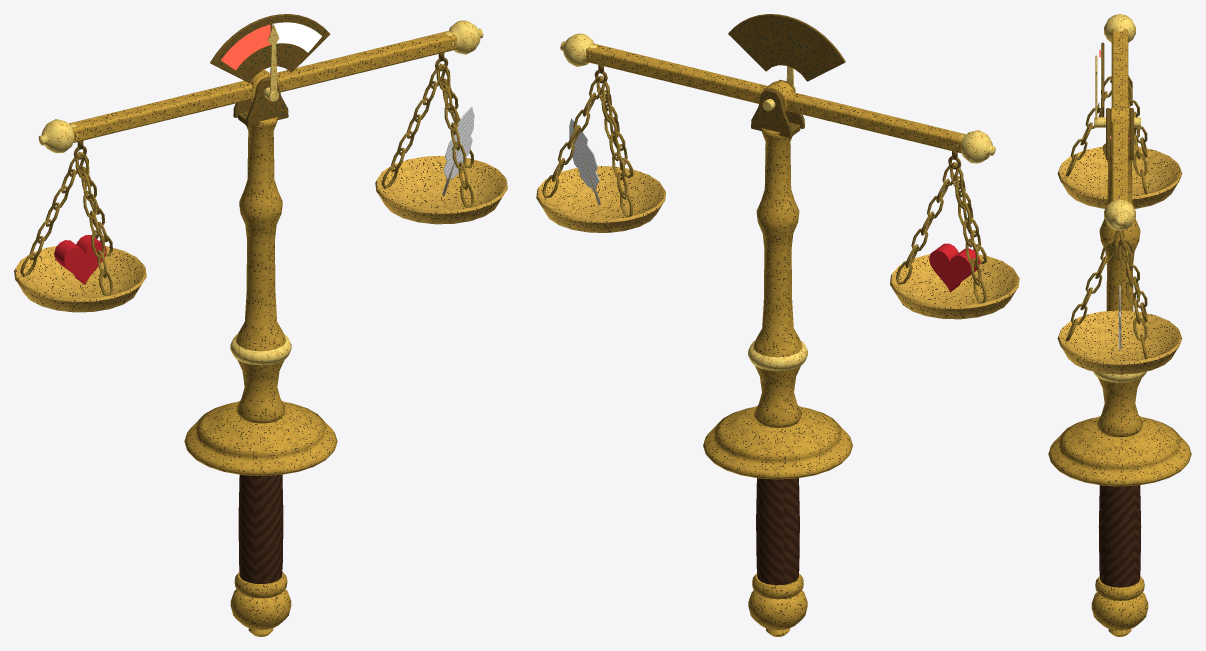
Rendered from w_scales.glb.
3 views of the same model, side by side, from view 1: azimuth 30°, elevation 25°; view 2: azimuth 150°, elevation 25°; view 3: azimuth 270°, elevation 25° (orthographic). The views are drawn at different scales.
Parts seen in each view (by area): view 1: sc_body_wzB, sc_beam_wzB, sc_pan_r_wzB, sc_pan_l_wzB, sc_handle_wzA, sc_handle_wzB, sc_dialface_wzN, sc_heart_wzN, sc_feather_wzN; view 2: sc_body_wzB, sc_beam_wzB, sc_pan_r_wzB, sc_pan_l_wzB, sc_handle_wzA, sc_handle_wzB, sc_heart_wzN, sc_feather_wzN; view 3: sc_body_wzB, sc_pan_r_wzB, sc_pan_l_wzB, sc_beam_wzB, sc_handle_wzA, sc_handle_wzB.
Part boxes in pixels (left/top/right/bottom): sc_body_wzB: left=184, top=14, right=337, bottom=475; sc_beam_wzB: left=38, top=20, right=483, bottom=159; sc_pan_r_wzB: left=375, top=63, right=507, bottom=224; sc_pan_l_wzB: left=14, top=151, right=146, bottom=312; sc_handle_wzA: left=238, top=474, right=283, bottom=583; sc_handle_wzB: left=230, top=572, right=291, bottom=636; sc_dialface_wzN: left=221, top=22, right=321, bottom=70; sc_heart_wzN: left=54, top=235, right=106, bottom=284; sc_feather_wzN: left=442, top=106, right=474, bottom=195; sc_body_wzB: left=703, top=14, right=852, bottom=479; sc_beam_wzB: left=560, top=33, right=995, bottom=169; sc_pan_r_wzB: left=536, top=75, right=665, bottom=232; sc_pan_l_wzB: left=890, top=162, right=1019, bottom=319; sc_handle_wzA: left=756, top=478, right=799, bottom=585; sc_handle_wzB: left=748, top=573, right=807, bottom=636; sc_heart_wzN: left=929, top=243, right=980, bottom=292; sc_feather_wzN: left=569, top=118, right=600, bottom=205; sc_body_wzB: left=1048, top=42, right=1191, bottom=486; sc_pan_r_wzB: left=1057, top=230, right=1182, bottom=374; sc_pan_l_wzB: left=1057, top=75, right=1182, bottom=208; sc_beam_wzB: left=1094, top=14, right=1140, bottom=230; sc_handle_wzA: left=1098, top=485, right=1141, bottom=587; sc_handle_wzB: left=1091, top=576, right=1148, bottom=636.
Size of the model in its own units: 0.5544 by 0.694 by 0.1544.
11 materials, 7 textured.
